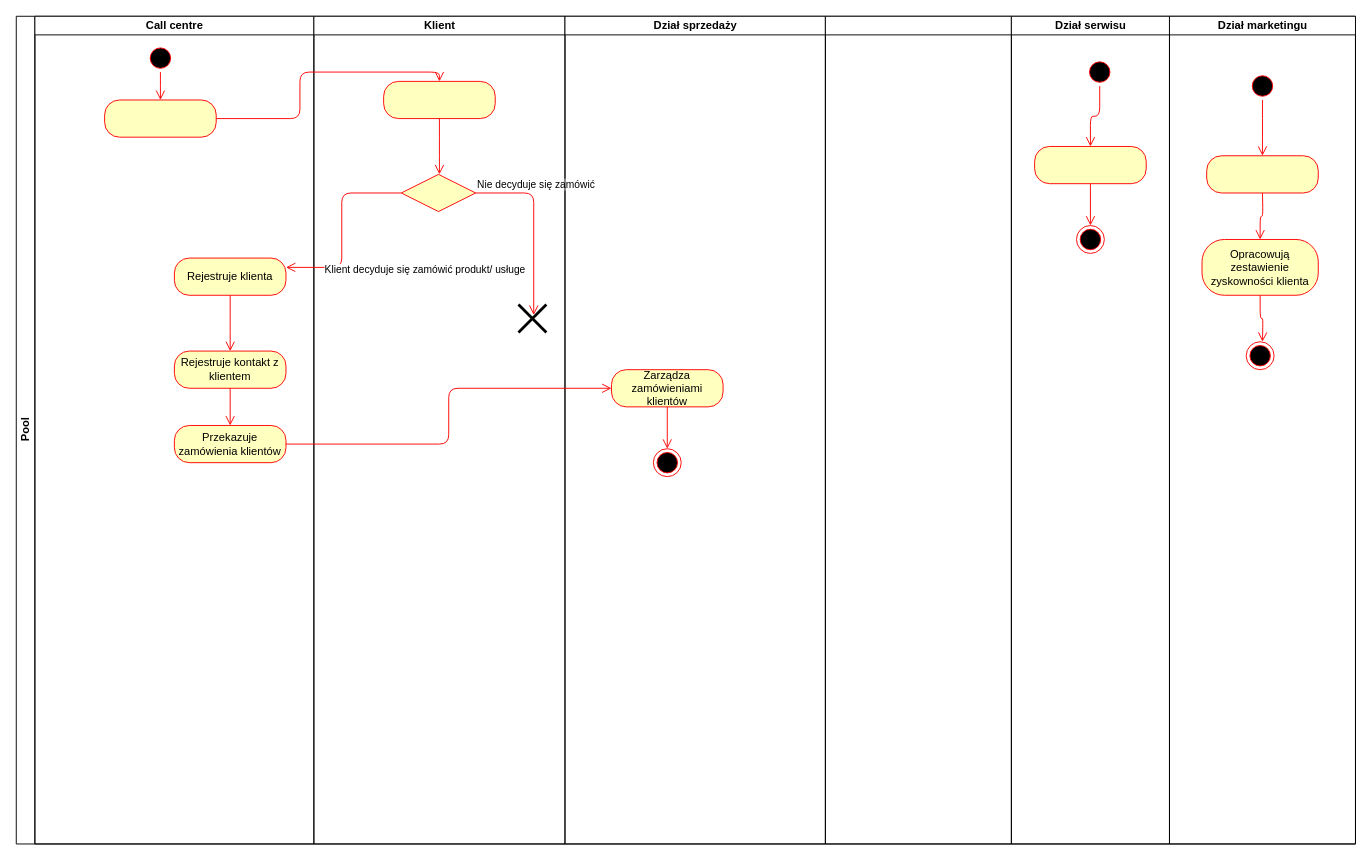
The diagram is 1372 pixels wide and 860 high, and some of its shapes have lost their labels. The centre of each missing label's shape, as x and y in pixels:
"Condition" belongs at (x=438, y=192).
"Dzwoni do kienta" belongs at (x=160, y=118).
"Menadżer" belongs at (x=917, y=429).
"Odbiera" belongs at (x=439, y=99).
"Opracowuje zestawienie sprzedaży" belongs at (x=1262, y=174).
"Prowadzie katalogów wyrobów i usług" belongs at (x=1090, y=165).
